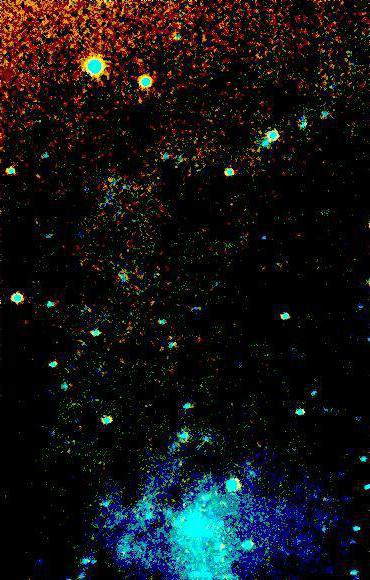star: (125, 86, 155, 116)
